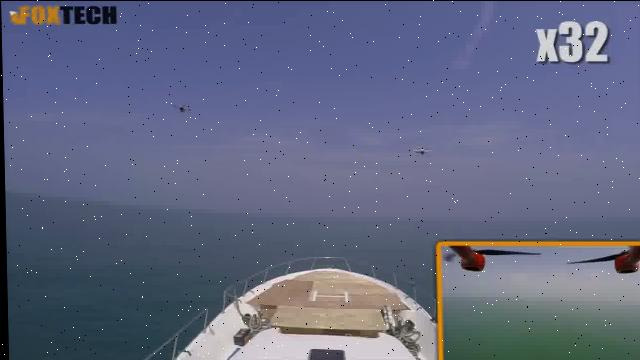drone: (155, 88, 201, 124), (398, 140, 439, 162)
